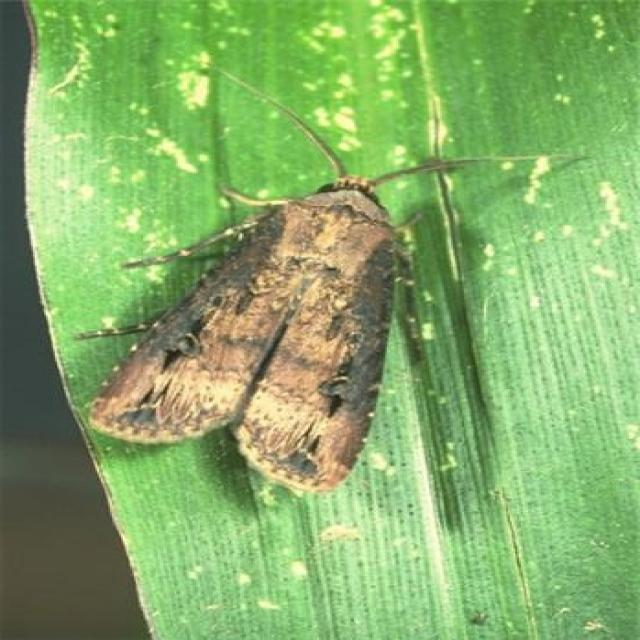black cutworm: (82, 169, 416, 506)
